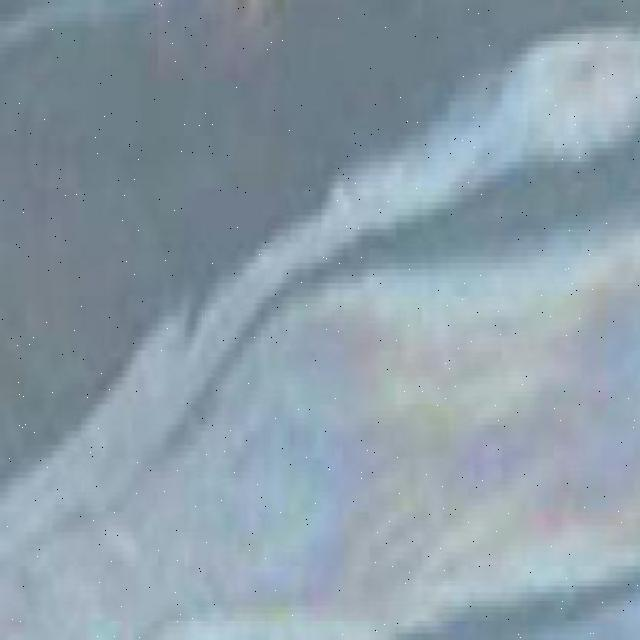oil_spillage: (2, 31, 640, 640)
